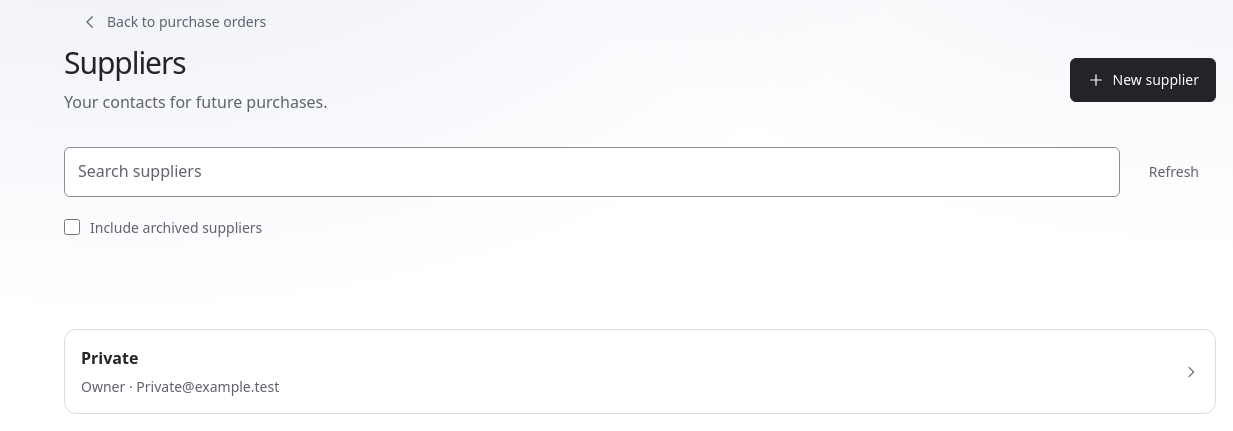
Test: clears private rows when access is lost
Expected: the text "Private" is shown, x1=81 y1=347 x2=138 y2=369
// WHEN refreshing fails authorization THEN contact details disappear before auth refresh completes.
Click the button with aria-label "Refresh suppliers" at (1174, 172), box x1=1132 y1=147 x2=1216 y2=197
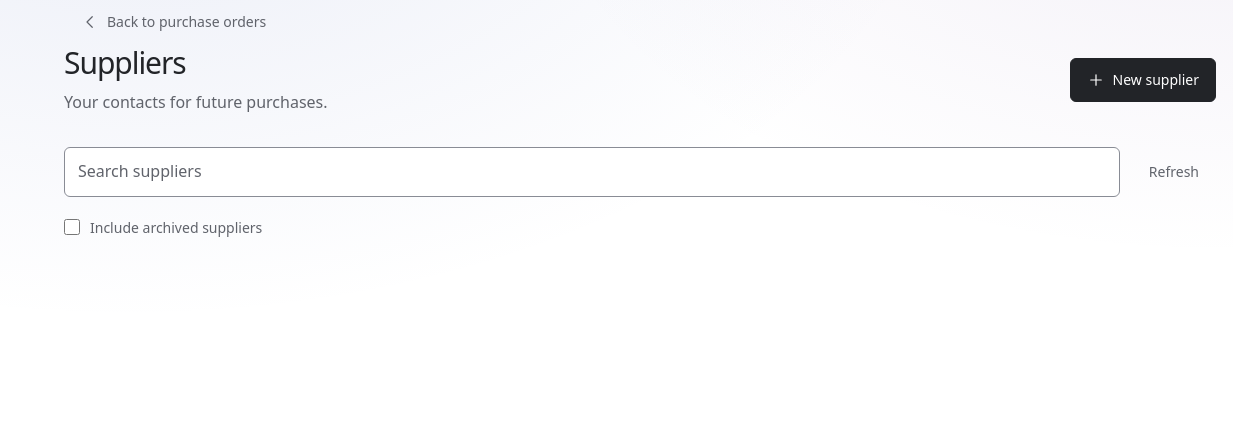
Expected: the link "Private" is gone
Expected: the link "Private@example.test" is gone
